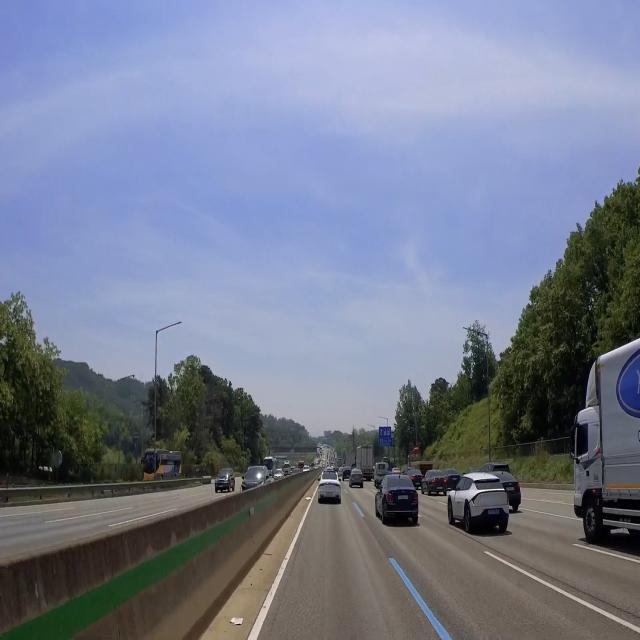car: (485, 506, 501, 517), (504, 485, 517, 493), (397, 493, 410, 501), (325, 489, 335, 499), (436, 485, 444, 490), (218, 484, 224, 488)
carev: (496, 508, 499, 515), (488, 509, 490, 515)
